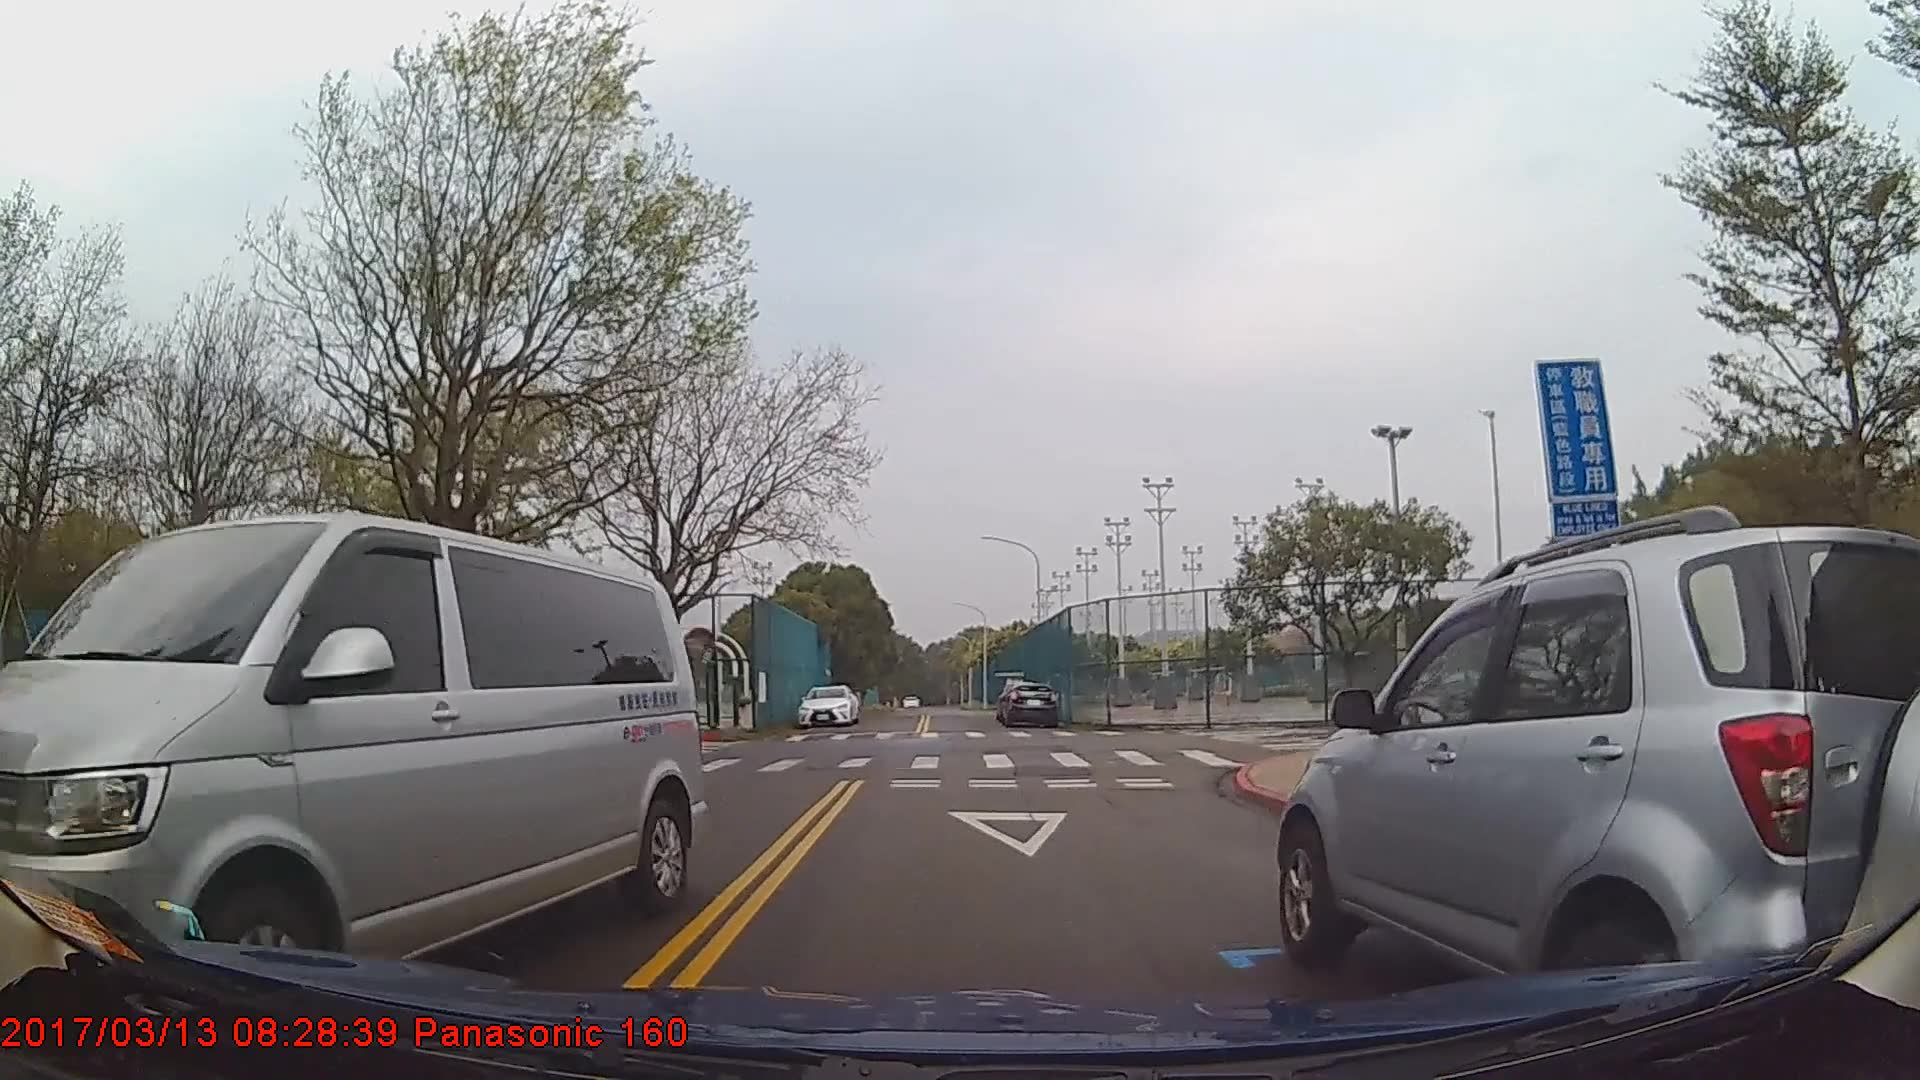vehicle: (0, 506, 708, 1004), (1275, 524, 1920, 1039), (795, 682, 858, 727), (1002, 680, 1059, 728)
